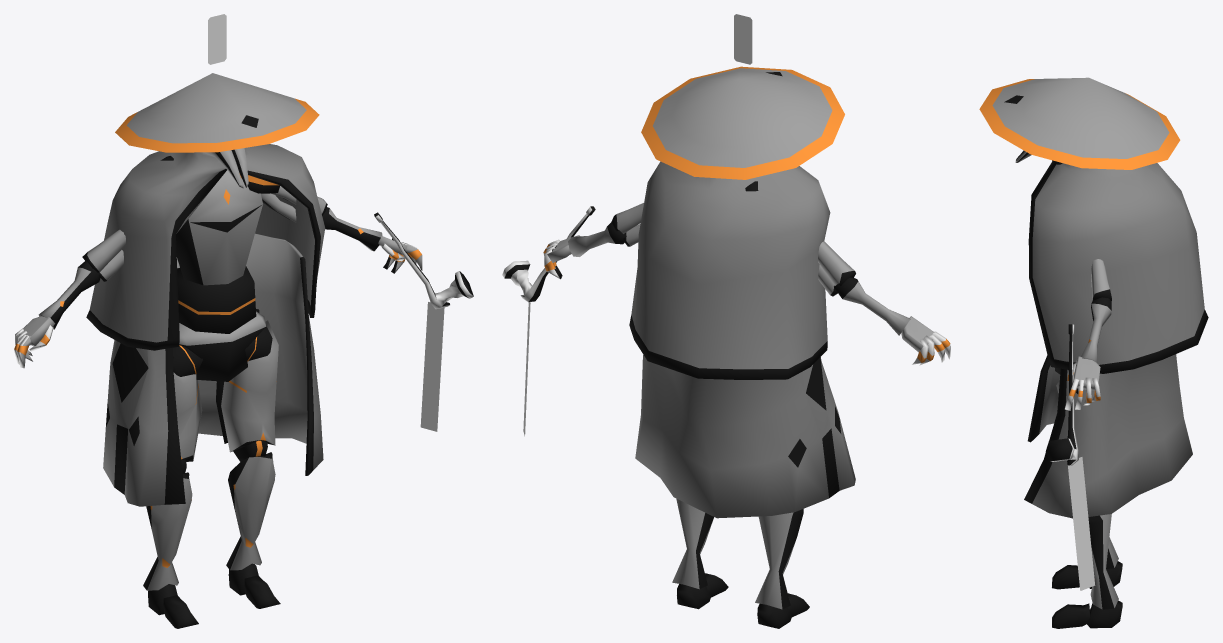
File: SAMIDALE.fbx
3 renders of one model, left to right at view 1: azimuth 30°, elevation 25°; view 2: azimuth 150°, elevation 25°; view 3: azimuth 270°, elevation 25°, orthographic.
Parts seen in each view (by area): view 1: Cylinder.018, Cylinder, Circle, Cylinder.001, Cylinder.010, Cylinder.007, Cylinder.011, Cylinder.006, Cylinder.003, Plane, Cylinder.002, Cube.003 (+9 smaller); view 2: Cylinder, Cylinder.018, Circle, Cylinder.003, Cylinder.011, Cube.005, Cube.003, Cube.004, Cube.035, Plane.002, Cube.034, Cylinder.005 (+2 smaller); view 3: Cylinder, Cylinder.018, Circle, Plane, Cylinder.011, Cube.003, Cube.035, Cylinder.014, Cylinder.013, Cube.034, Cube.036, Cylinder.008.
Part boxes in pixels (x1,y1,x2,y2): Cylinder.018: (103,233,323,506); Cylinder: (86,144,325,350); Circle: (115,73,319,152); Cylinder.001: (176,170,262,285); Cylinder.010: (216,309,278,452); Cylinder.007: (177,266,256,333); Cylinder.011: (226,452,275,570); Cylinder.006: (179,311,266,381); Cylinder.003: (143,472,192,590); Plane: (420,302,444,431); Cylinder.002: (173,372,202,461); Cube.003: (374,212,473,309); Cylinder: (629,161,830,379); Cylinder.018: (635,355,855,518); Circle: (641,66,844,179); Cylinder.003: (755,509,803,609); Cylinder.011: (672,498,713,589); Cube.005: (834,277,910,335); Cube.003: (502,206,595,301); Cube.004: (818,241,855,296); Cube.035: (568,222,626,256); Plane.002: (734,14,752,64); Cube.034: (611,203,643,246); Cylinder.005: (757,603,791,628); Cylinder: (1028,160,1208,373); Cylinder.018: (1024,354,1192,518); Circle: (979,77,1180,169); Plane: (1068,457,1095,590); Cylinder.011: (1088,514,1118,609); Cube.003: (1045,324,1078,465); Cube.035: (1081,297,1111,362); Cylinder.014: (1052,603,1089,628); Cylinder.013: (1087,600,1122,628); Cube.034: (1091,259,1111,301); Cube.036: (1072,356,1100,390); Cylinder.008: (1052,565,1079,589).
Bounding box in the file's own units: 133 × 166 × 58.81.
